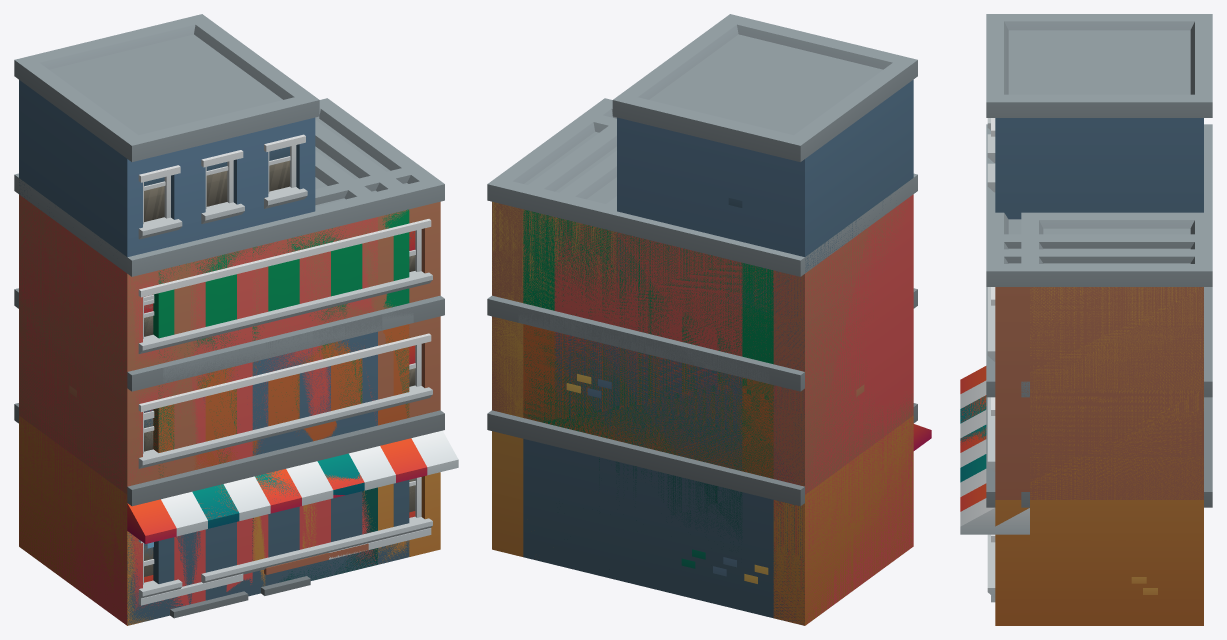
Rendered from harbor.glb.
The picture shows the model from 3 angles, left to right: view 1: azimuth 30°, elevation 25°; view 2: azimuth 150°, elevation 25°; view 3: azimuth 270°, elevation 25°; orthographic projection. The views are drawn at different scales.
Visible parts, largest first — view 1: kay-building-e, kay-building-h, kay-building-f, kay-building-b, kay-building-c, kay-building-d, kay-building-a; view 2: kay-building-h, kay-building-e, kay-building-b, kay-building-f, kay-building-d, kay-building-c, kay-building-a; view 3: kay-building-e, kay-building-h, kay-building-c, kay-building-f, kay-building-d, kay-building-a, kay-building-b.
Part boxes in pixels (x1,y1,x2,y2): kay-building-e: [15, 98, 458, 625]; kay-building-h: [14, 14, 410, 625]; kay-building-f: [14, 98, 444, 625]; kay-building-b: [153, 311, 413, 618]; kay-building-c: [190, 150, 382, 610]; kay-building-d: [153, 120, 413, 575]; kay-building-a: [192, 318, 395, 605]; kay-building-h: [487, 14, 917, 625]; kay-building-e: [487, 98, 931, 625]; kay-building-b: [518, 309, 773, 618]; kay-building-f: [487, 101, 917, 625]; kay-building-d: [518, 126, 773, 478]; kay-building-c: [550, 150, 742, 478]; kay-building-a: [550, 314, 742, 568]; kay-building-e: [960, 124, 1212, 625]; kay-building-h: [986, 14, 1212, 625]; kay-building-c: [986, 153, 1212, 554]; kay-building-f: [986, 124, 1212, 597]; kay-building-d: [986, 218, 1210, 366]; kay-building-a: [960, 396, 995, 494]; kay-building-b: [986, 399, 1212, 573].
Bounding box in the file's own units: 2.01 × 2.95 × 1.45.
Materials: 1 (1 with a texture image).
